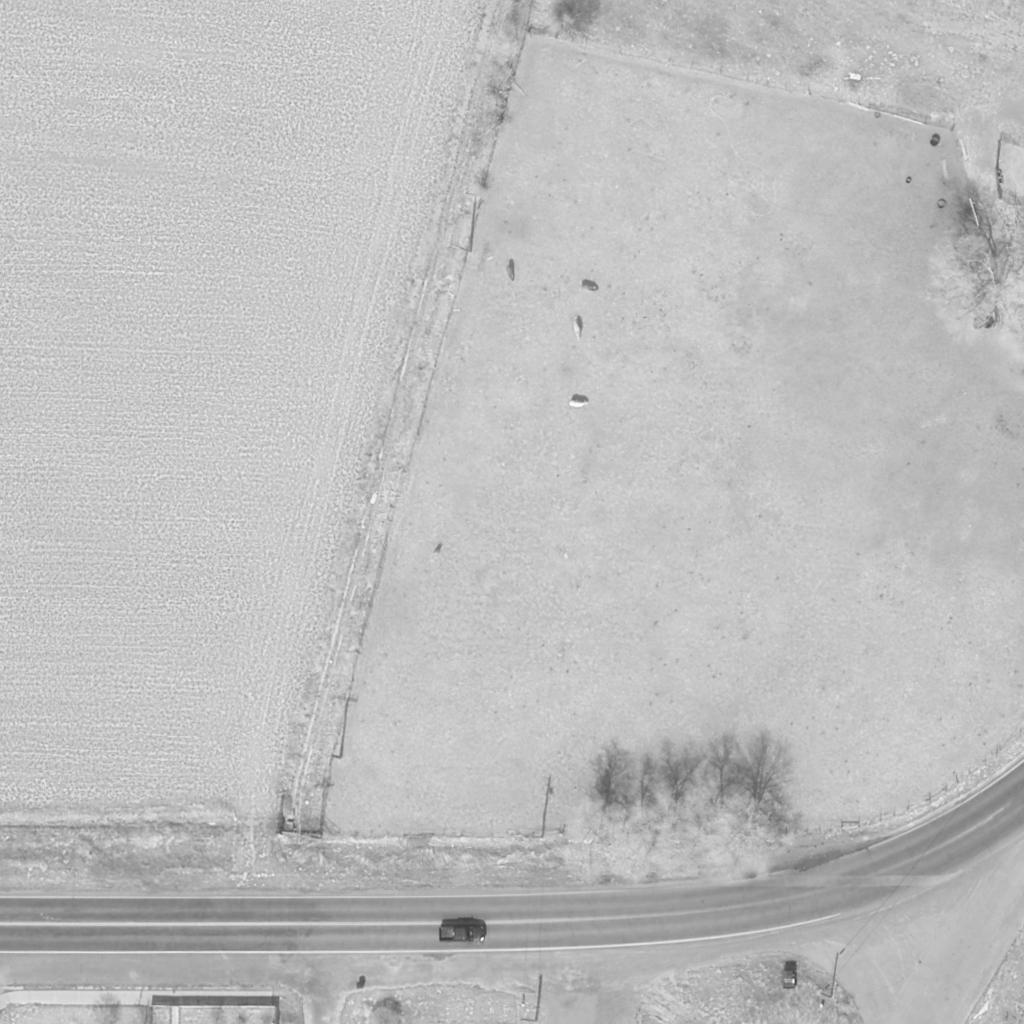vehicle: (439, 925, 487, 943)
